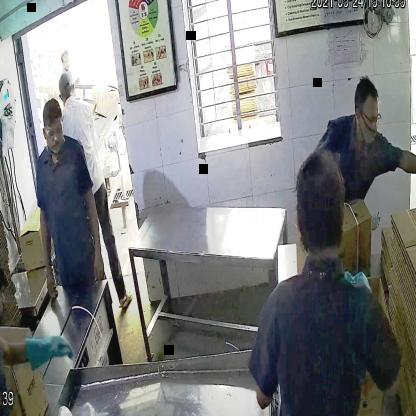goggles: (354, 100, 384, 132), (39, 116, 66, 142)
